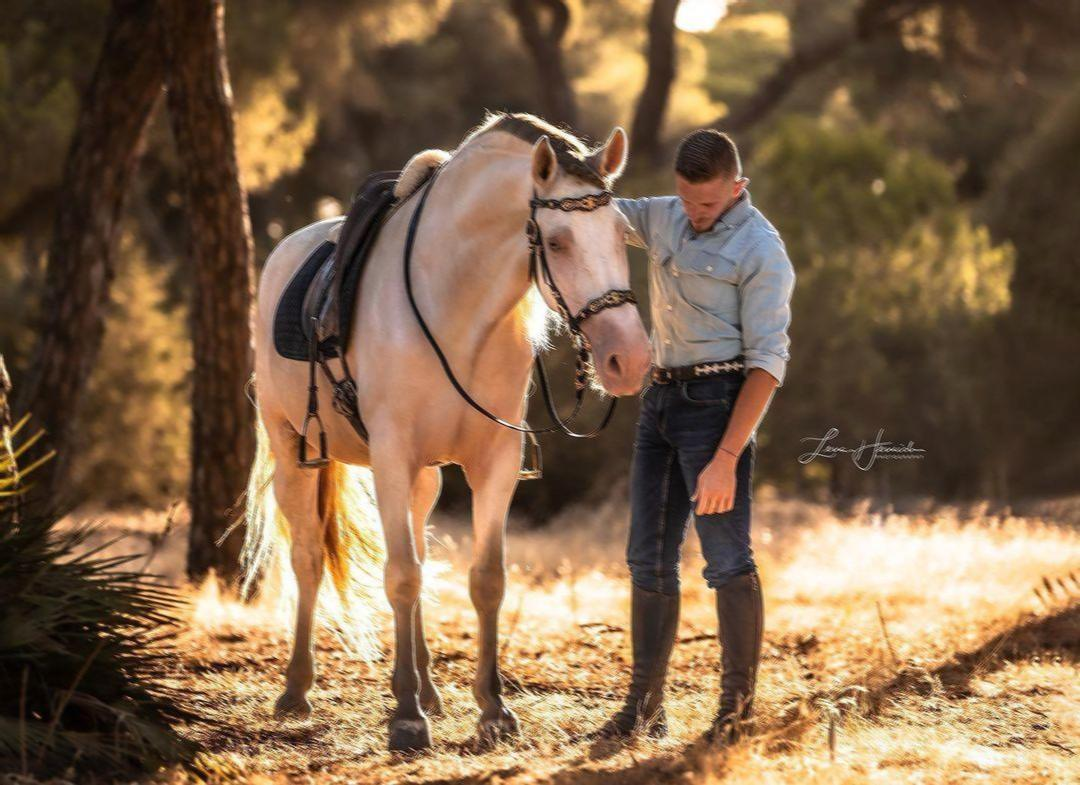horse: (232, 109, 652, 753)
